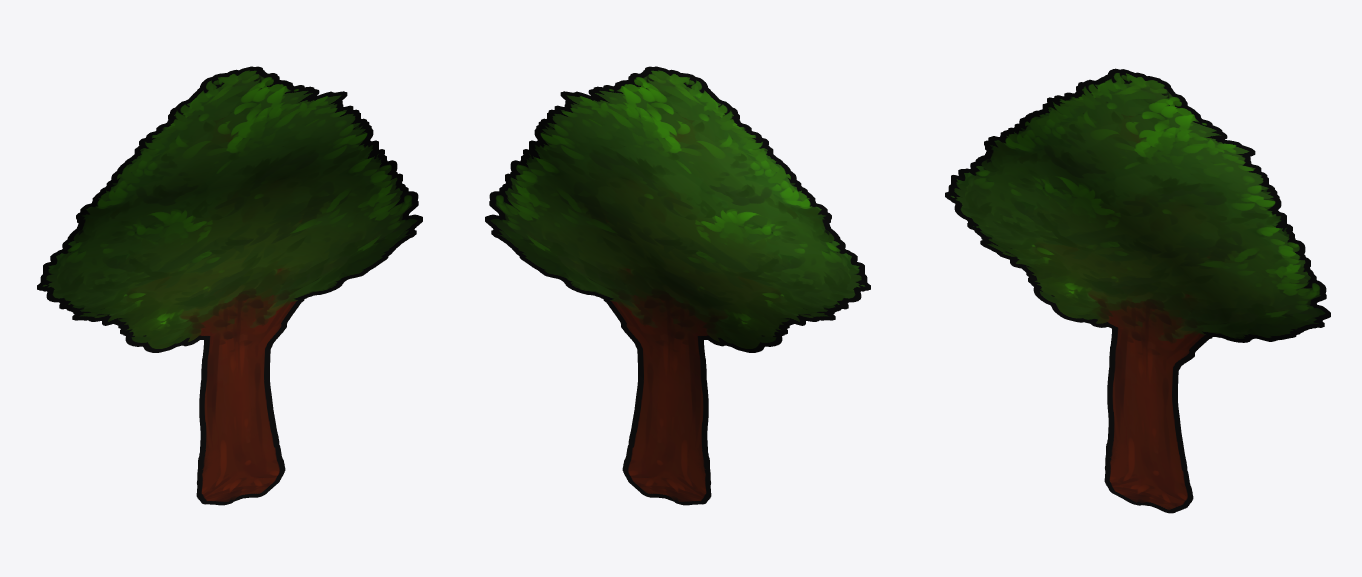
The model's file is PlaneNormalRound.FBX.
3 renders of one model, left to right at view 1: azimuth 30°, elevation 25°; view 2: azimuth 150°, elevation 25°; view 3: azimuth 330°, elevation 25°, orthographic.
Visible parts, largest first — view 1: Rectangle001; view 2: Rectangle001; view 3: Rectangle001.
Part boxes in pixels (x1,y1,x2,y2): Rectangle001: (37,66,422,505); Rectangle001: (485,66,870,505); Rectangle001: (945,68,1330,513).
Size of the model in its own units: 100 by 1.63e-05 by 100.
Materials: 1 (1 with a texture image).
